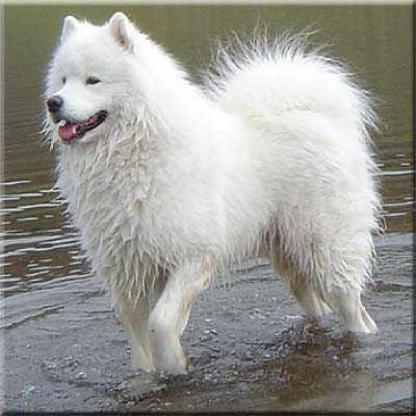Samoyed: (42, 9, 376, 373)
